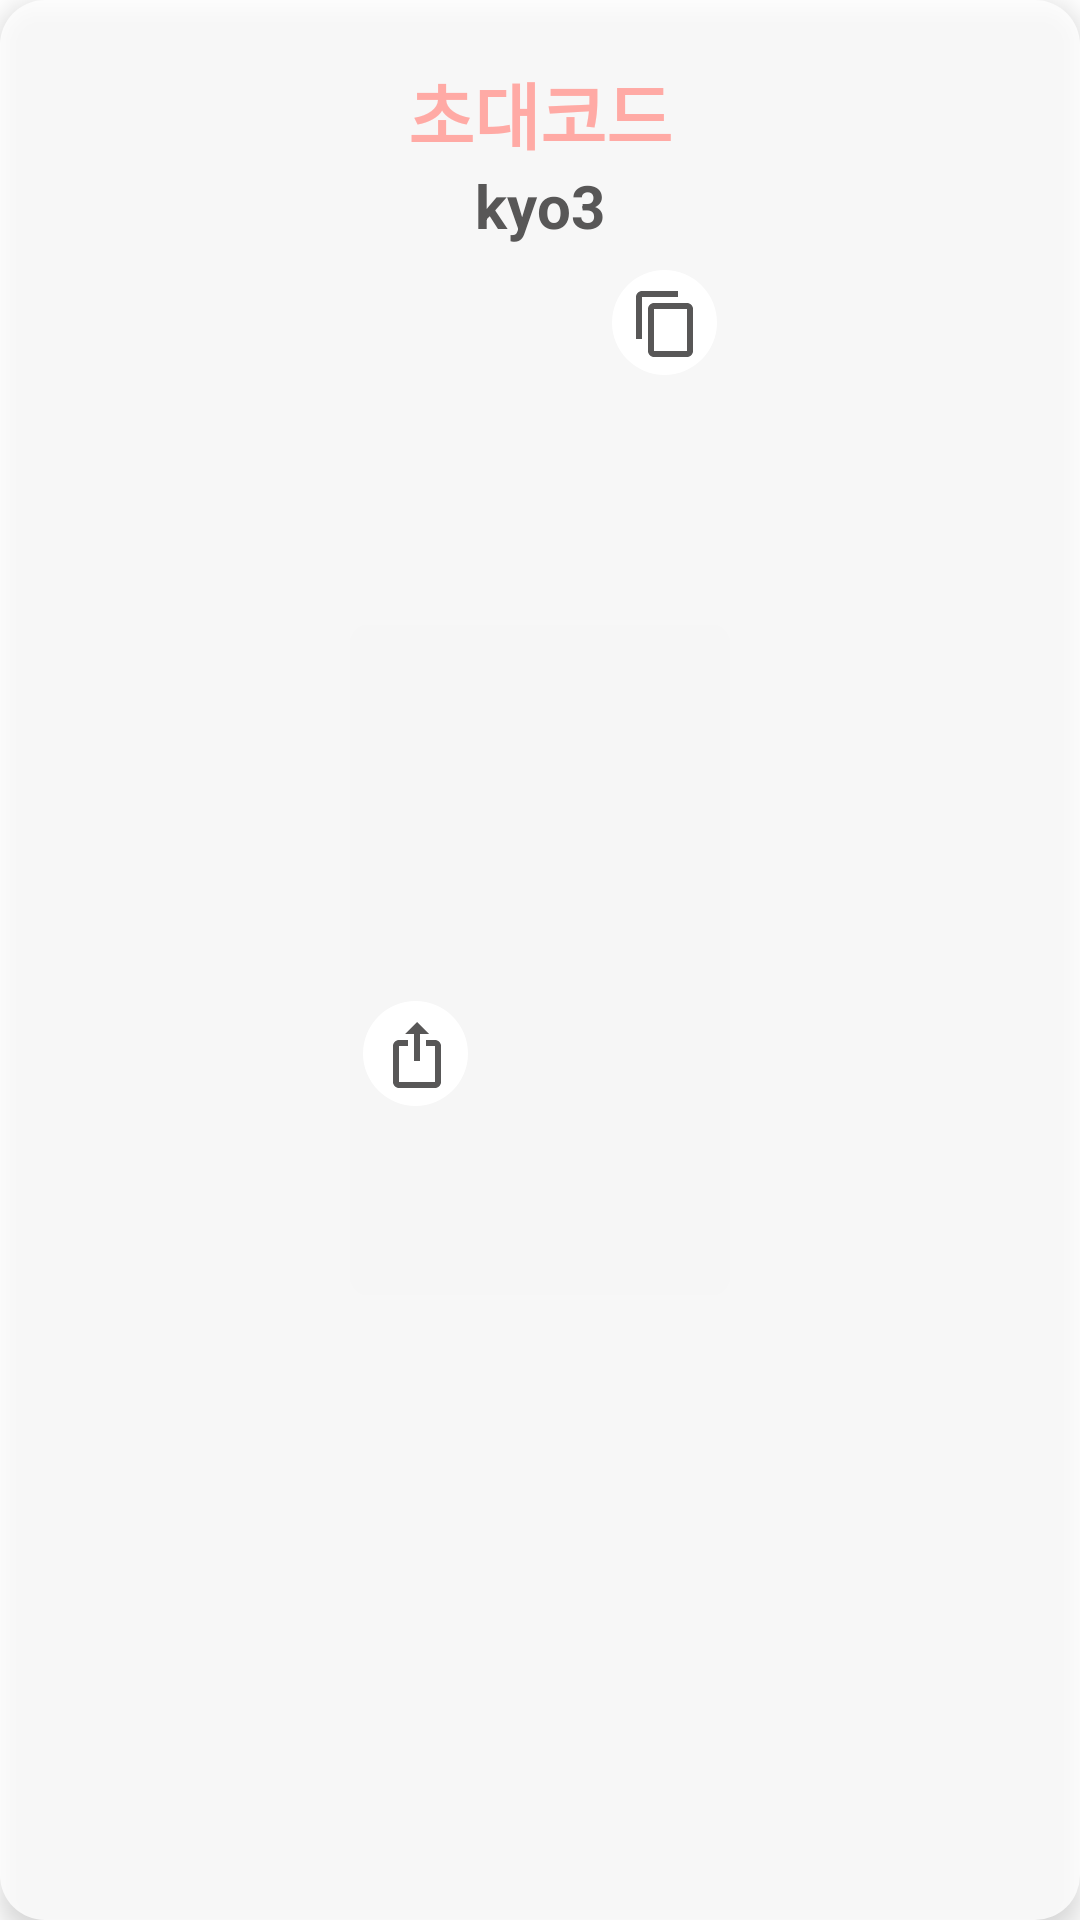

Where icons sit on this 1080 x 1920 app screen, as (x1, y1, x2, y2):
share: (363, 1001, 468, 1106)
